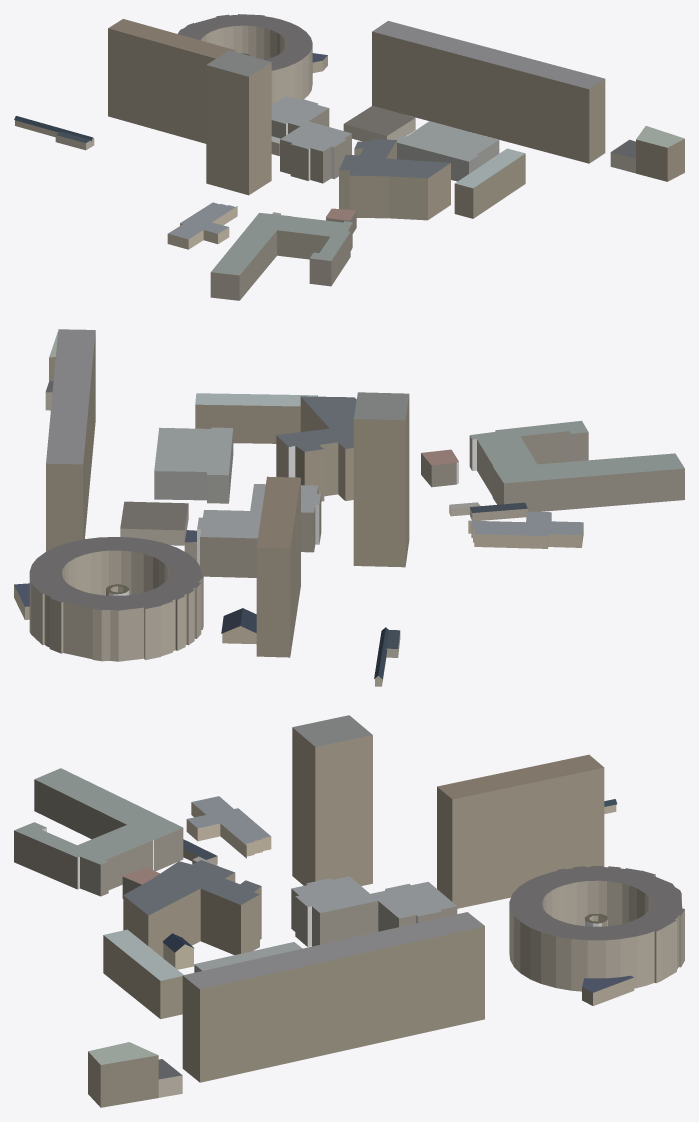
3 views of the same model, one above another, from view 1: azimuth 30°, elevation 25°; view 2: azimuth 150°, elevation 25°; view 3: azimuth 270°, elevation 25° (orthographic). The views are drawn at different scales.
Parts seen in each view (by area): view 1: tuile; view 2: tuile; view 3: tuile.
Boxes of the visible parts, left/top/right/bottom form: tuile: left=14, top=14, right=684, bottom=300; tuile: left=14, top=329, right=684, bottom=686; tuile: left=14, top=715, right=684, bottom=1107.
Size of the model in its own units: 278 by 69.32 by 263.
